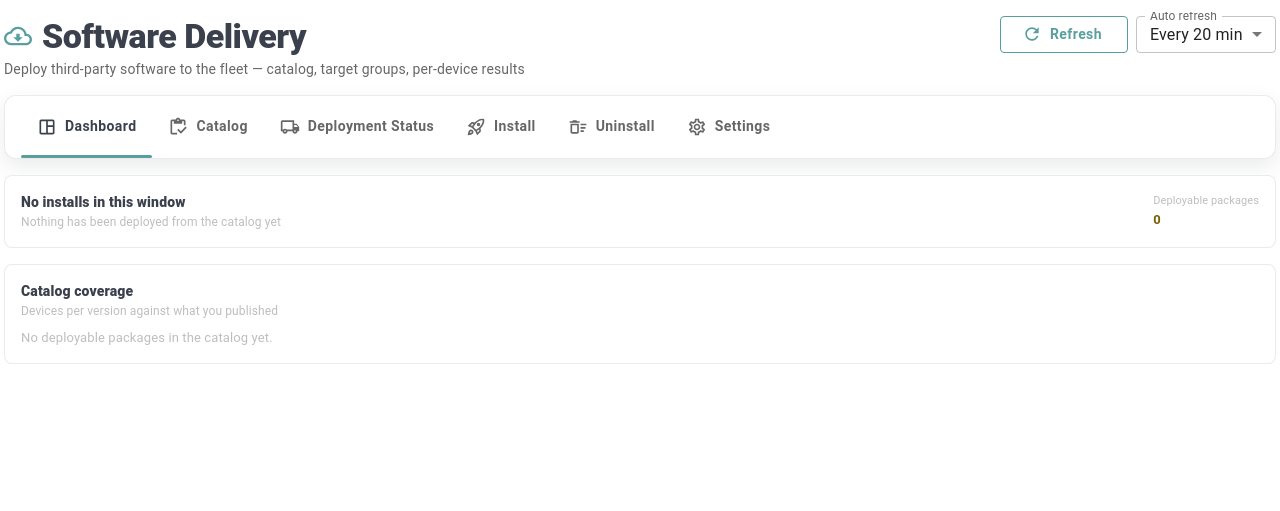
Test: la desinstalación es ALCANZABLE, no sólo está montada › un clic en la pestaña lleva a la vista, sin pasos intermedios
Click the tab "Uninstall".
click(611, 127)  # box [552, 96, 671, 158]
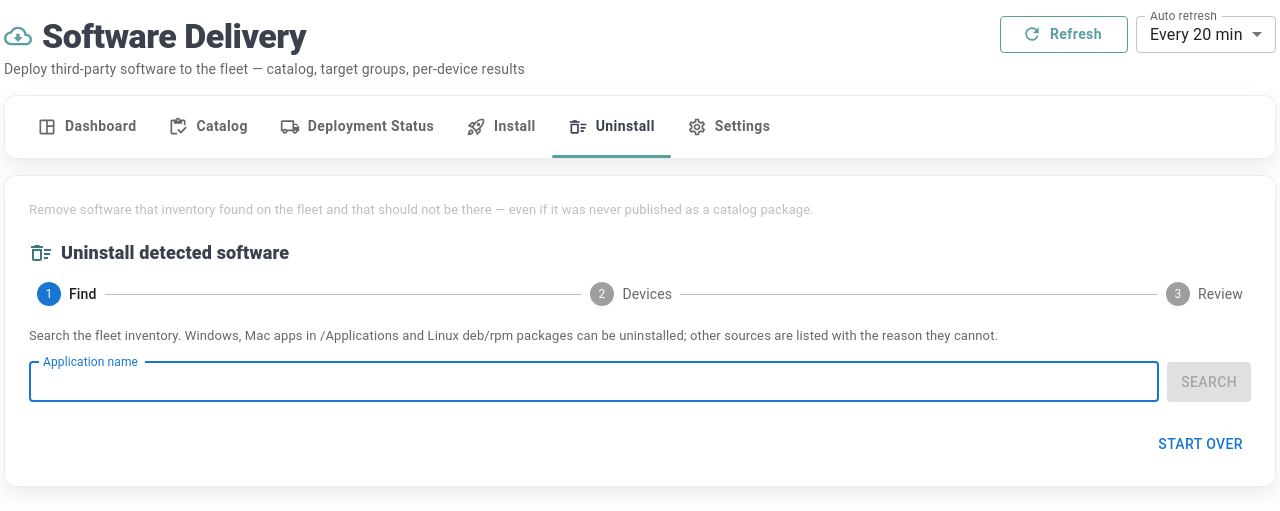
Now the text "Uninstall detected software" is shown, box [61, 239, 289, 266]
Now the field labelled "Application name" is shown, box [29, 362, 1159, 402]
